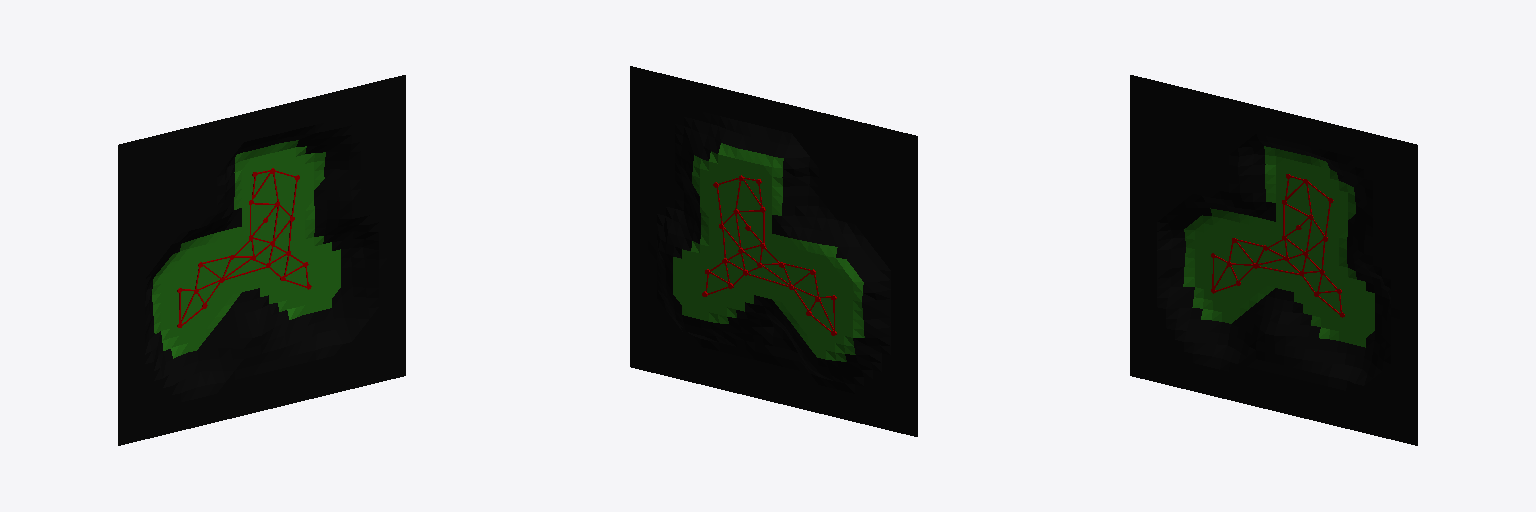
File: RiskMapAlpha.obj
3 renders of one model, left to right at view 1: azimuth 30°, elevation 25°; view 2: azimuth 150°, elevation 25°; view 3: azimuth 330°, elevation 25°, orthographic.
Parts seen in each view (by area): view 1: Terrain001, Object; view 2: Terrain001, Object; view 3: Terrain001, Object.
Part boxes in pixels (bbox=[...]): Terrain001: bbox=[118, 75, 405, 445]; Object: bbox=[152, 140, 340, 358]; Terrain001: bbox=[630, 66, 917, 436]; Object: bbox=[673, 143, 864, 361]; Terrain001: bbox=[1130, 75, 1417, 445]; Object: bbox=[1183, 146, 1374, 347].
Bounding box in the file's own units: 2928 × 2928 × 209.